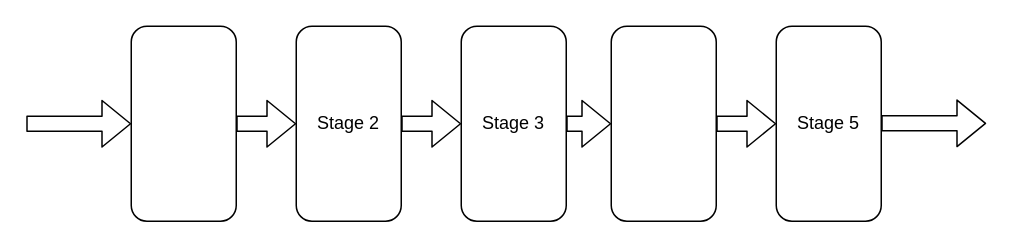
Image size: 1011x248. Some labels were removed from this diagram. The centre of each missing label's shape, as x and y in pixels:
"Stage 4" belongs at point 663,123.
"Stage1" belongs at point 183,123.
